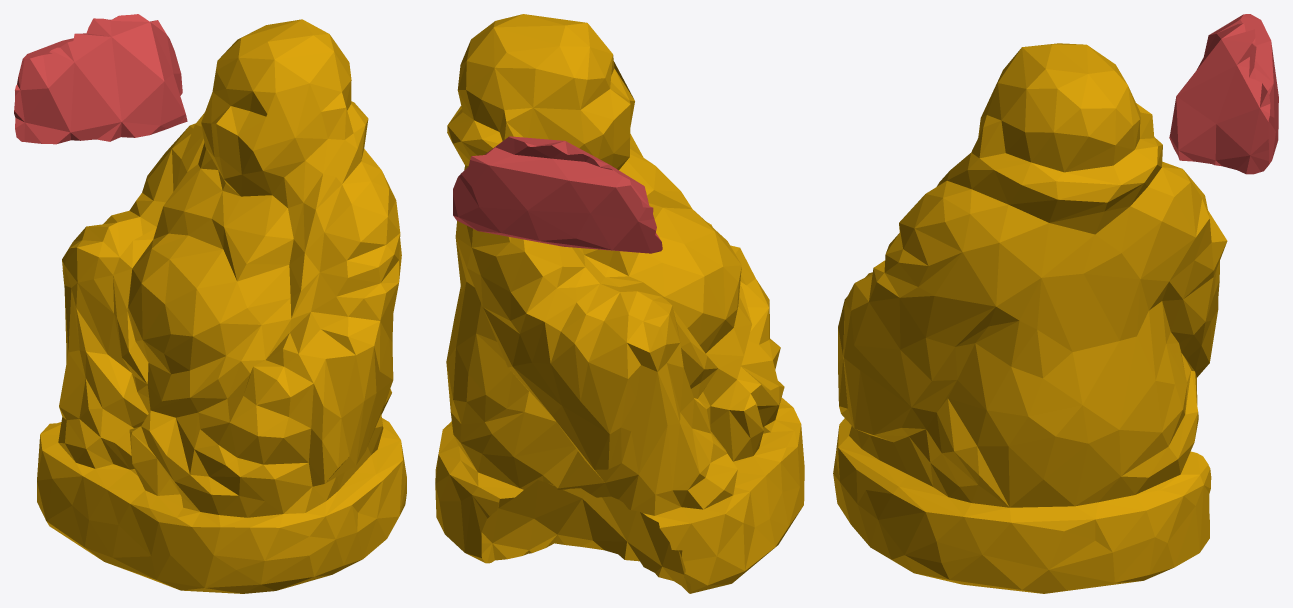
Rendered from fractured_44_2pcs_transformed.glb.
The picture shows the model from 3 angles, left to right: view 1: azimuth 30°, elevation 25°; view 2: azimuth 150°, elevation 25°; view 3: azimuth 270°, elevation 25°; orthographic projection. The views are drawn at different scales.
Parts seen in each view (by area): view 1: piece_0.obj, piece_1.obj; view 2: piece_0.obj, piece_1.obj; view 3: piece_0.obj, piece_1.obj.
Boxes of the visible parts, left/top/right/bottom form: piece_0.obj: left=37, top=19, right=406, bottom=593; piece_1.obj: left=14, top=14, right=187, bottom=144; piece_0.obj: left=435, top=14, right=804, bottom=593; piece_1.obj: left=453, top=136, right=662, bottom=253; piece_0.obj: left=833, top=43, right=1227, bottom=593; piece_1.obj: left=1169, top=14, right=1278, bottom=174.
Bounding box in the file's own units: 0.6824 × 1 × 0.8053.
